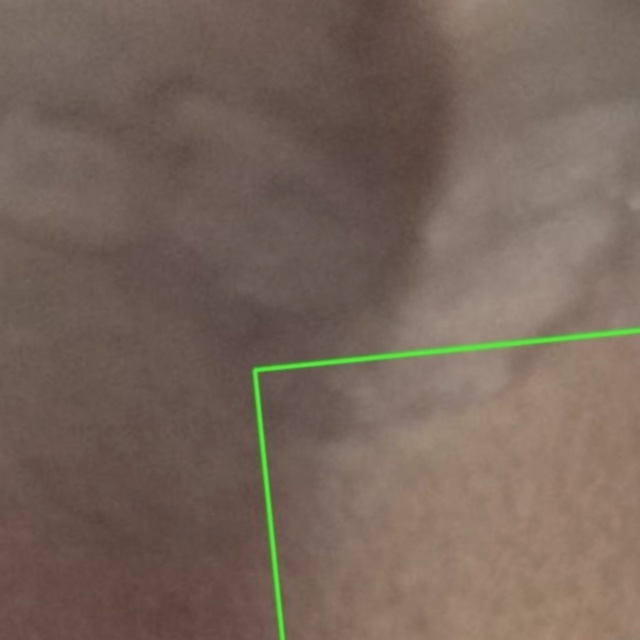Tinea Corporis: (254, 330, 639, 639)
